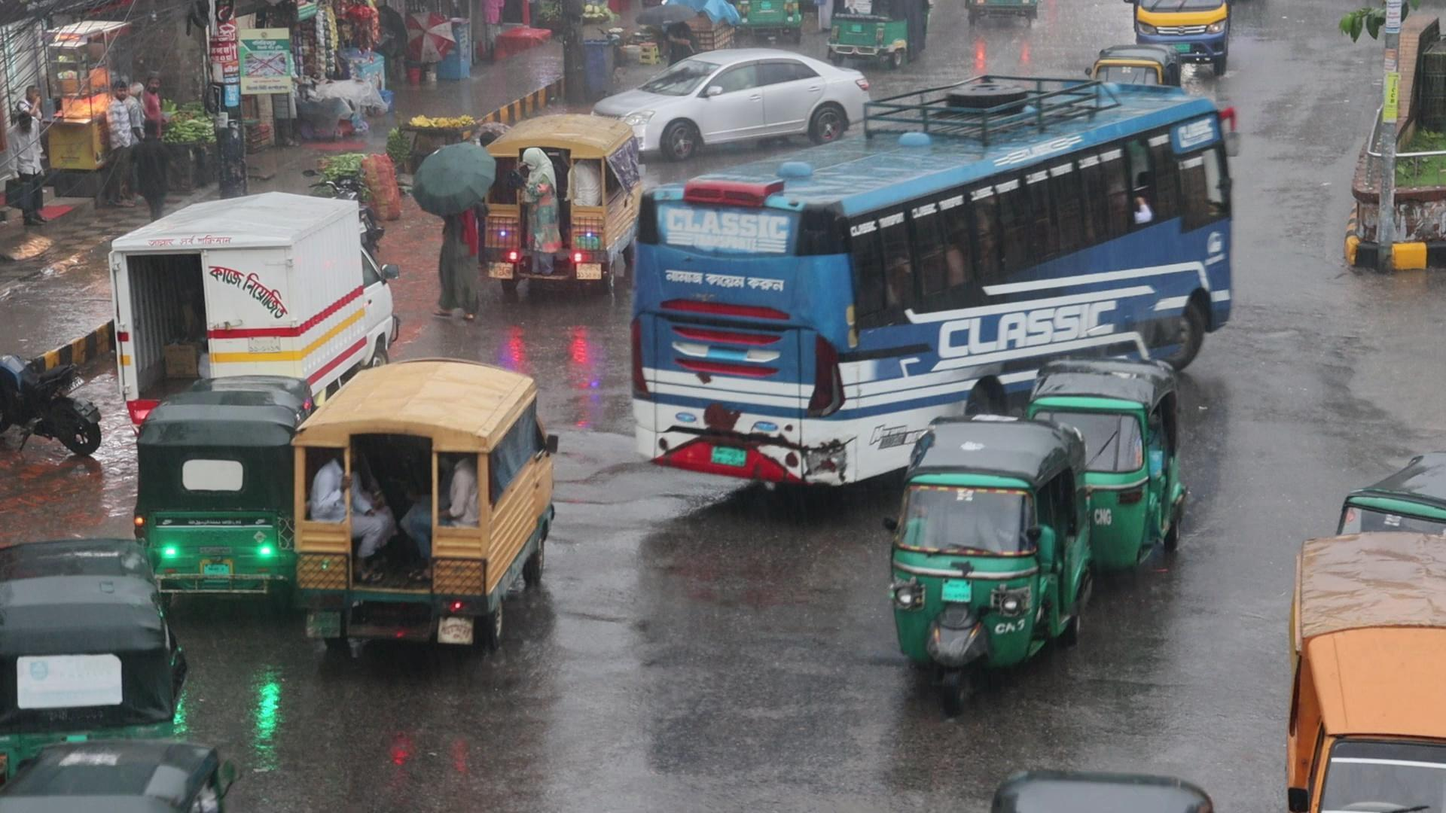Bus: (634, 78, 1243, 502)
Car: (587, 24, 880, 161)
Truck: (286, 366, 569, 664), (450, 104, 656, 296)
